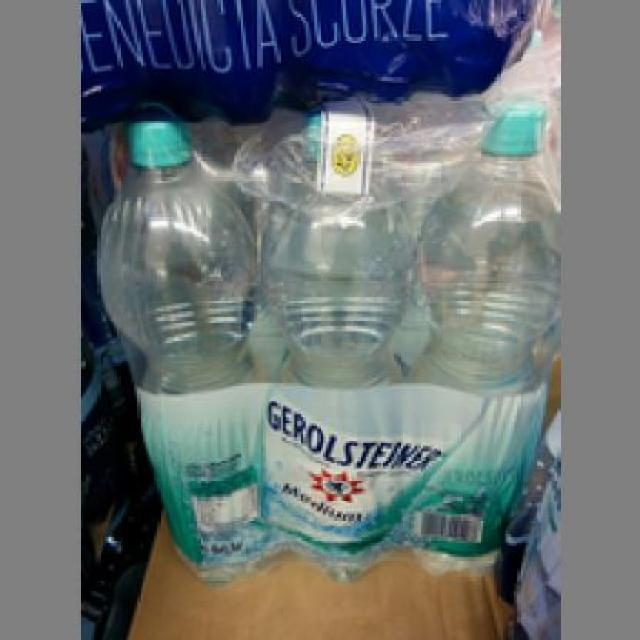Water: (92, 123, 274, 583), (402, 94, 558, 572), (260, 107, 414, 584)
